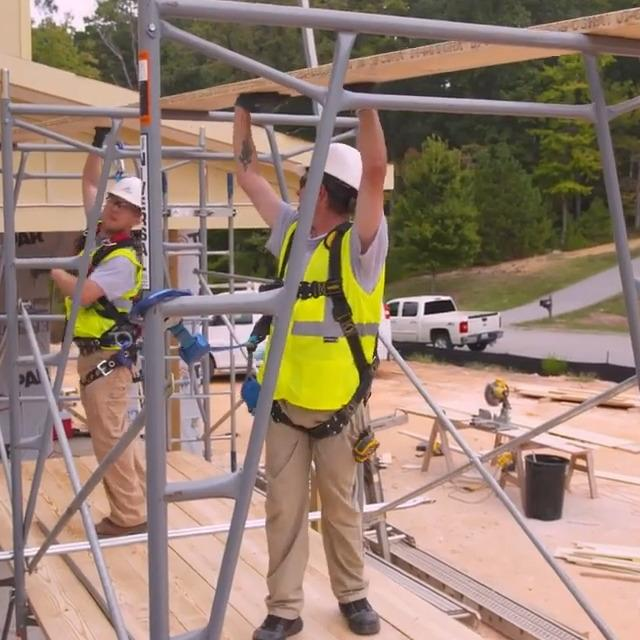Gloves: (234, 90, 294, 114), (344, 81, 377, 113), (29, 257, 52, 279), (93, 126, 112, 150)
Hardhat: (296, 140, 364, 189), (107, 176, 143, 207)
NO-Mask: (103, 210, 132, 227)
Person: (230, 79, 391, 640), (32, 126, 146, 540)
Safety Vest: (258, 221, 386, 409), (63, 231, 143, 338)
truck: (386, 295, 504, 351)
van: (137, 285, 392, 374)
